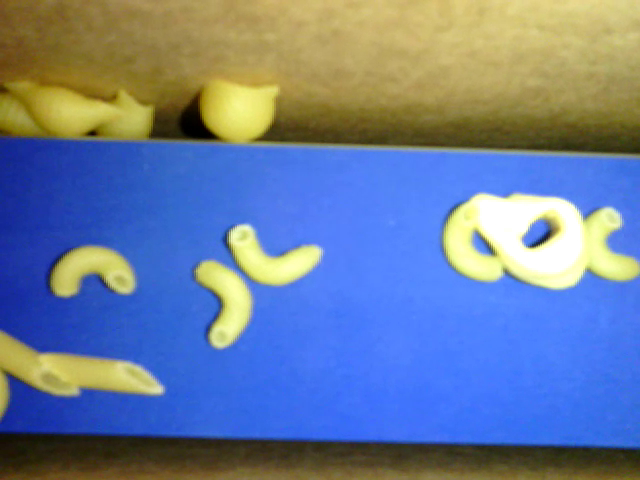elbow: (222, 223, 325, 285), (191, 258, 255, 349), (442, 199, 506, 283), (44, 242, 137, 298), (584, 202, 639, 283)
penne: (1, 328, 89, 394), (40, 349, 161, 396)
shell: (1, 78, 127, 143), (198, 75, 279, 143), (91, 85, 158, 141), (1, 93, 65, 139)
tortellini: (476, 194, 589, 287)
